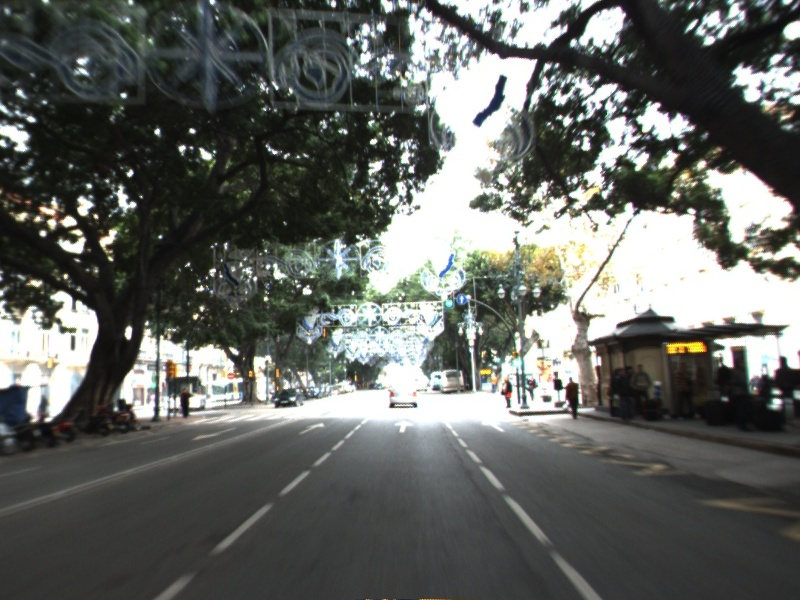STRAIGHT: (296, 421, 328, 436), (392, 418, 417, 436)
